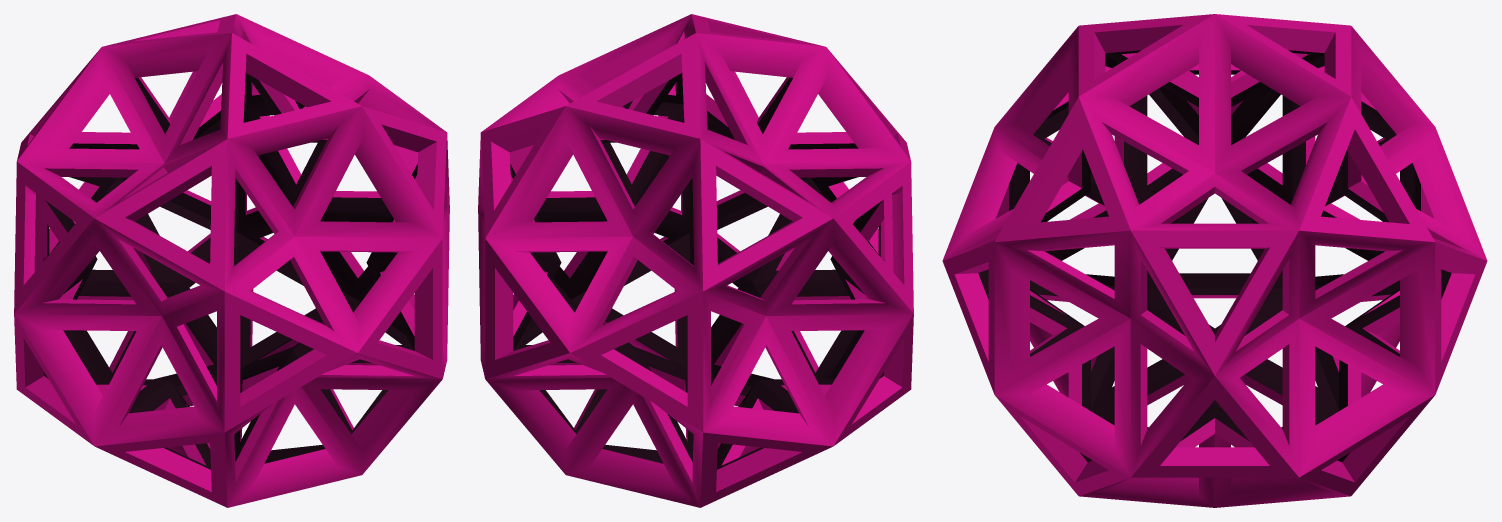
The model's file is CryptoModel.dae.
3 renders of one model, left to right at view 1: azimuth 30°, elevation 25°; view 2: azimuth 150°, elevation 25°; view 3: azimuth 270°, elevation 25°, orthographic. The views are drawn at different scales.
Parts seen in each view (by area): view 1: icosidodecahedron, IcosidodecahedronTriangles; view 2: icosidodecahedron, IcosidodecahedronTriangles; view 3: icosidodecahedron, IcosidodecahedronTriangles.
Part boxes in pixels (left/top/right/bottom): icosidodecahedron: left=14, top=14, right=449, bottom=507; IcosidodecahedronTriangles: left=44, top=73, right=417, bottom=469; icosidodecahedron: left=478, top=14, right=913, bottom=507; IcosidodecahedronTriangles: left=510, top=73, right=883, bottom=469; icosidodecahedron: left=942, top=14, right=1487, bottom=507; IcosidodecahedronTriangles: left=978, top=50, right=1451, bottom=461.
Bounding box in the file's own units: 3.56 × 3.56 × 3.56.
